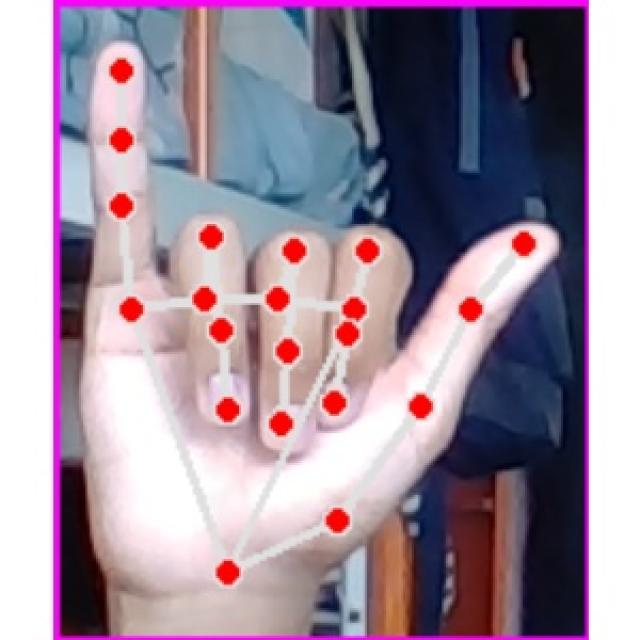Y: (76, 39, 553, 609)
